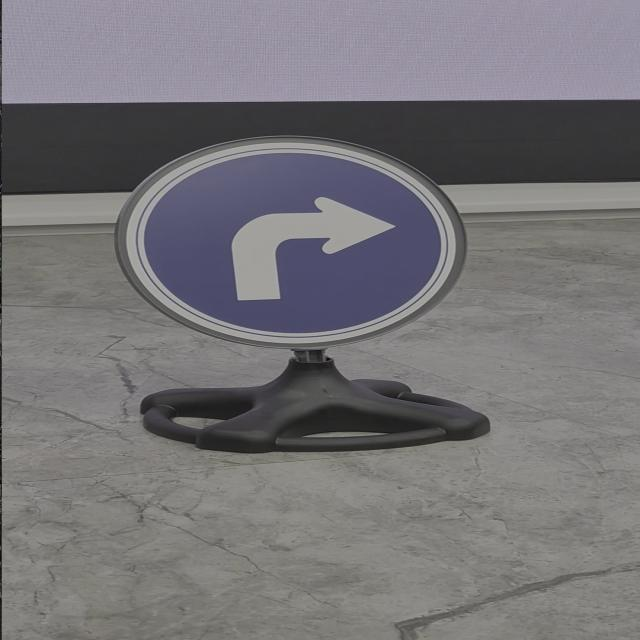right_dierection: (107, 137, 462, 341)
